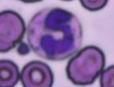N: (28, 7, 82, 59)
